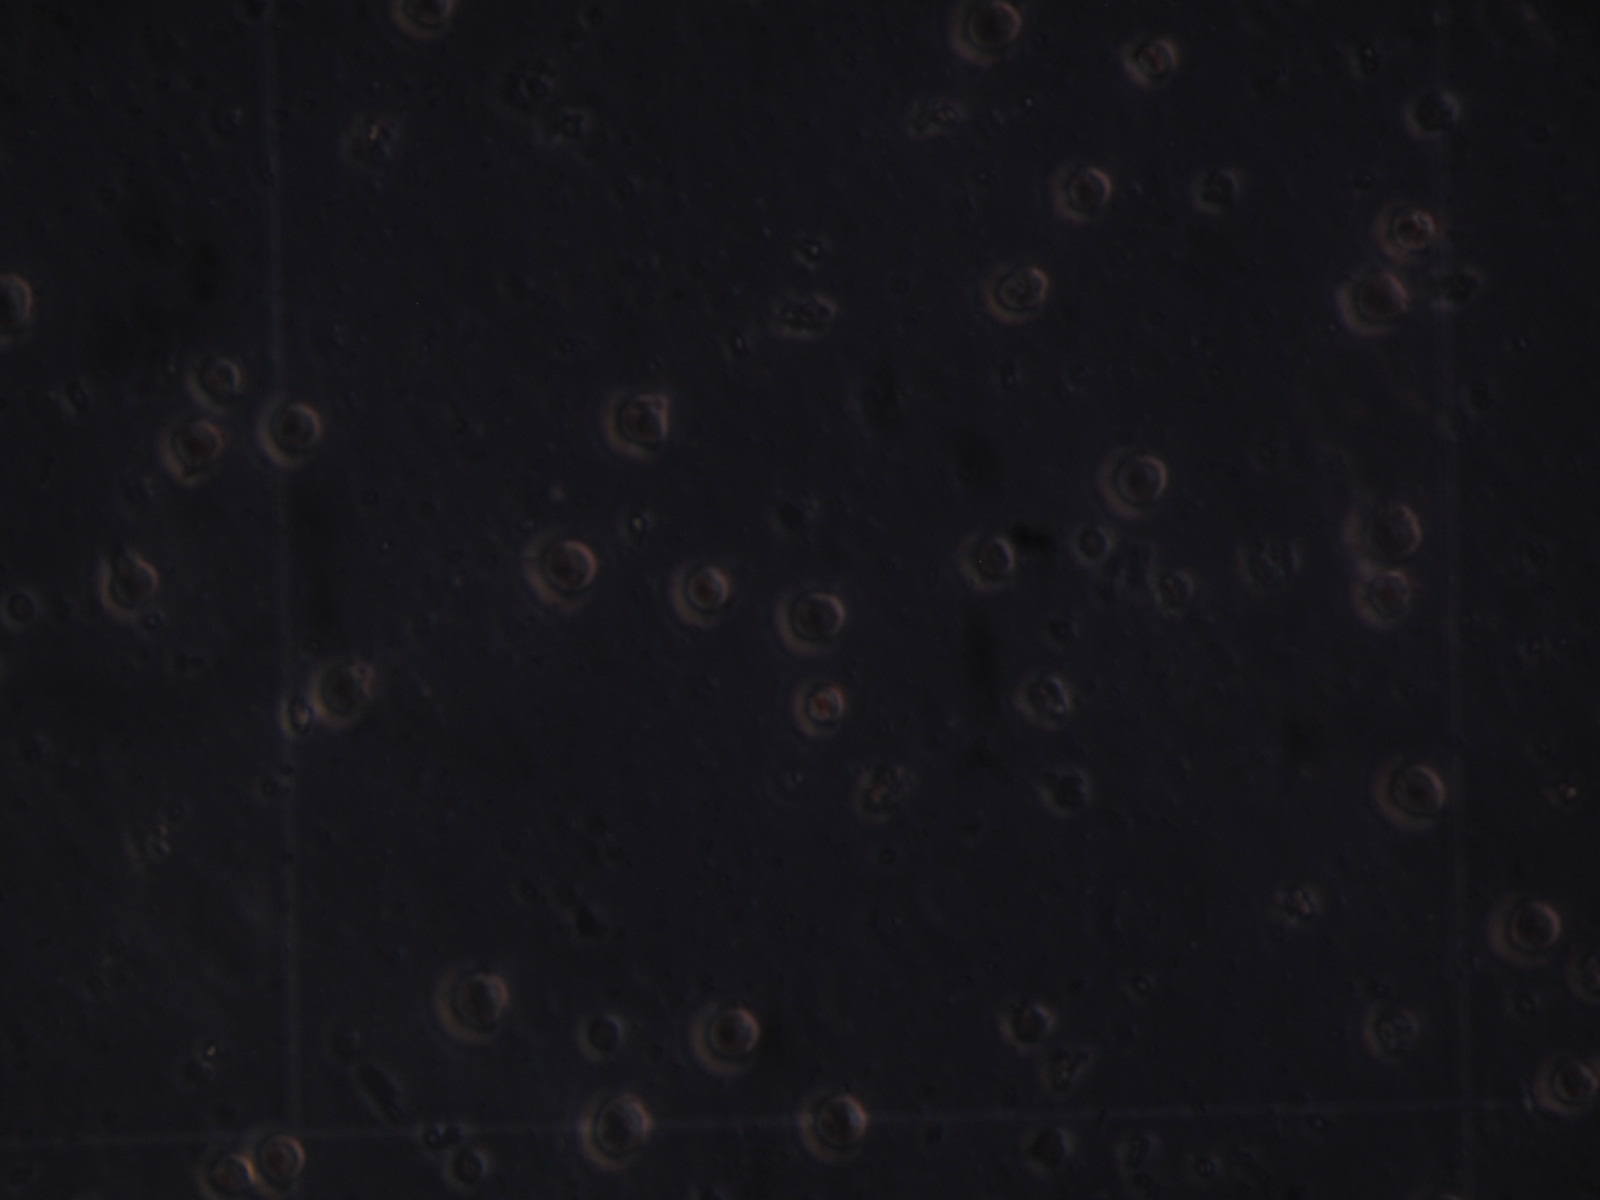hemo: (523, 526, 598, 611), (1339, 492, 1422, 563), (432, 966, 508, 1041), (1094, 444, 1168, 519), (1376, 754, 1446, 833), (944, 1, 1026, 66), (797, 1090, 868, 1163), (578, 1093, 648, 1167), (157, 410, 226, 485), (689, 1000, 756, 1076), (1338, 265, 1409, 337), (1487, 896, 1560, 966), (254, 395, 321, 470), (598, 388, 669, 458), (774, 591, 844, 655), (666, 560, 729, 632), (1534, 1046, 1597, 1116), (304, 666, 372, 729), (1352, 563, 1414, 629), (183, 345, 244, 405), (959, 529, 1017, 592), (101, 557, 159, 619), (988, 265, 1052, 320), (1058, 161, 1112, 227), (1359, 1005, 1419, 1061), (1402, 84, 1463, 139), (1123, 32, 1180, 86), (796, 681, 849, 739), (244, 1134, 306, 1184), (1014, 673, 1073, 724), (1002, 1000, 1054, 1054), (396, 1, 459, 43), (1382, 208, 1437, 255), (573, 1013, 622, 1061), (205, 1153, 256, 1200), (1151, 566, 1194, 616), (1067, 522, 1112, 568), (443, 1146, 495, 1186), (1, 270, 31, 329)
